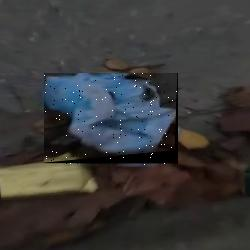restaffald: (44, 74, 178, 165)
